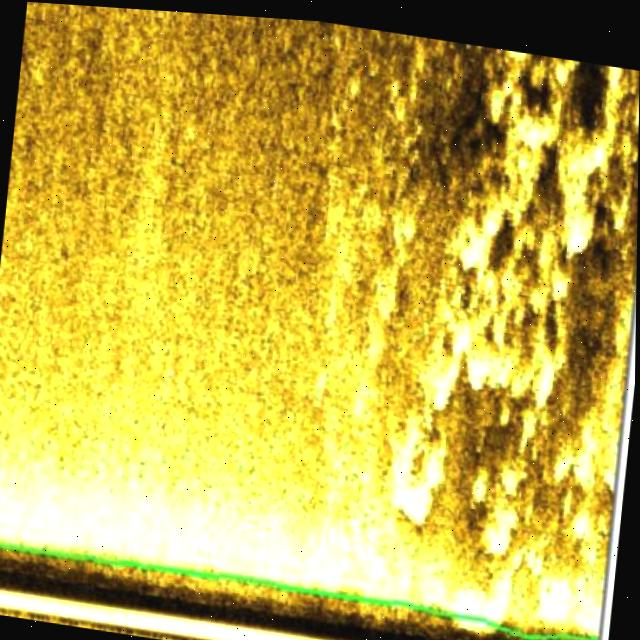bedrock group: (395, 31, 640, 602)
